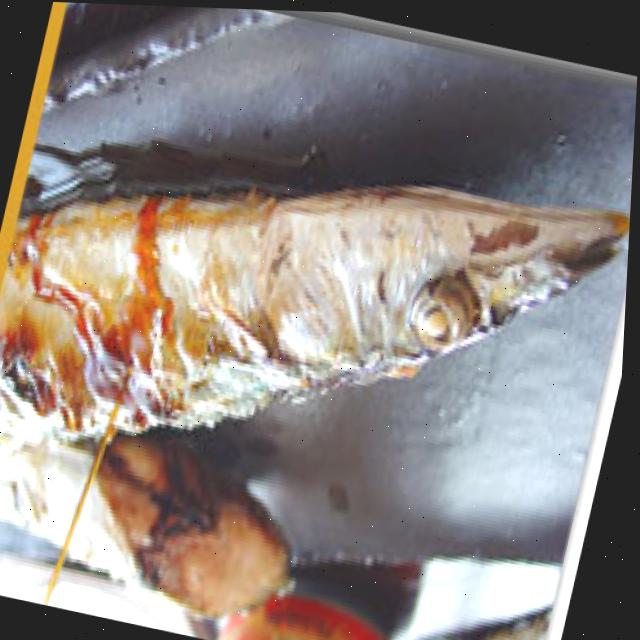熟制海鲜: (0, 96, 636, 559)
